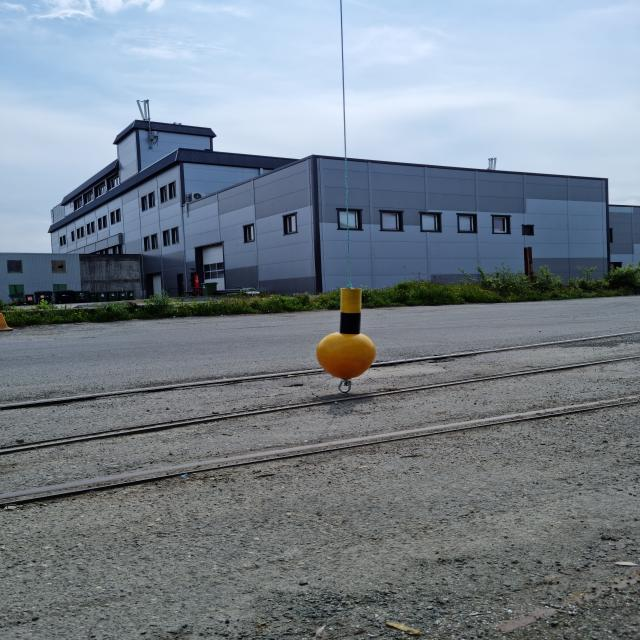west: (316, 288, 377, 378)
